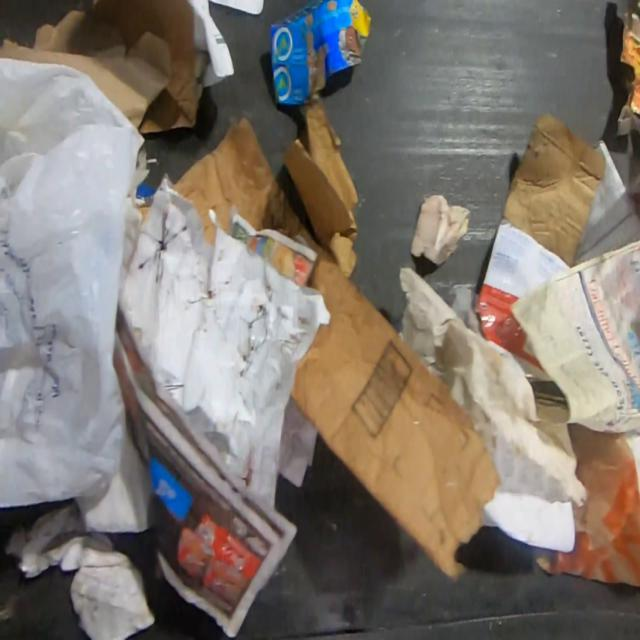cardboard: (172, 117, 499, 582), (0, 0, 211, 137), (501, 110, 602, 266), (284, 91, 360, 280), (270, 0, 377, 104)
soft_plastic: (0, 55, 146, 507)
